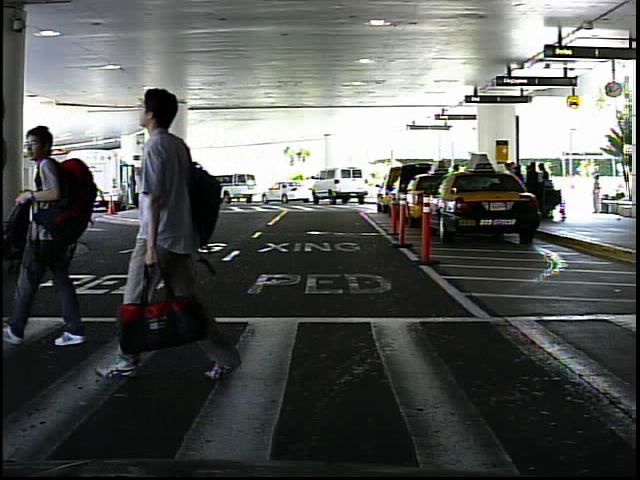person: (109, 79, 233, 396), (15, 115, 101, 352), (51, 171, 70, 220), (588, 172, 607, 218)
